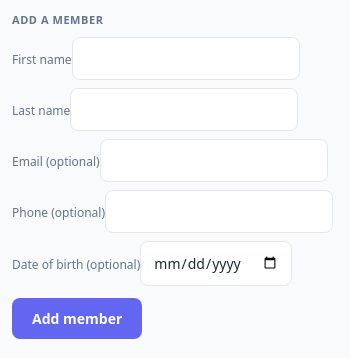
Scenario: AddMemberForm › with contact: creates a link request, never touches the direct-add path, and sends no name
This screenshot has width=350, height=358.
Type "Jo" into the field labelled "First name" at (186, 58), box top-left (72, 36), bottom-right (300, 80)
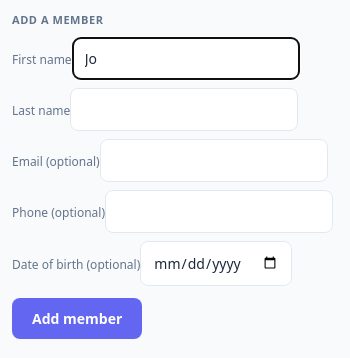
Type "Doe" into the field labelled "Last name" at (184, 109), box top-left (70, 88), bottom-right (298, 130)
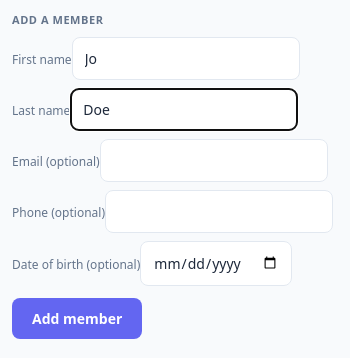
Type "a@b.com" into the field labelled "Email (optional)" at (214, 160), box top-left (100, 138), bottom-right (328, 182)
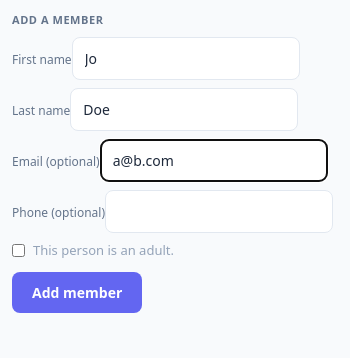
Click the checkbox labelled "This person is an adult." at (18, 250), box top-left (12, 244), bottom-right (25, 257)
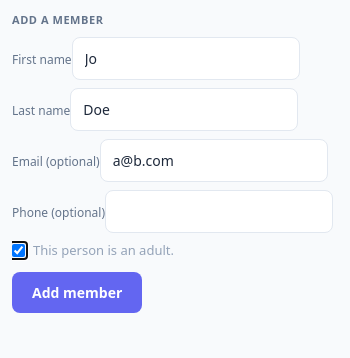
Click the button "Add member" at (77, 292), box top-left (12, 272), bottom-right (142, 313)
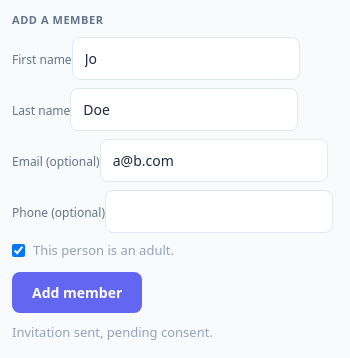
Expected: the text "Invitation sent, pending consent." is shown, top-left (12, 323), bottom-right (213, 341)
